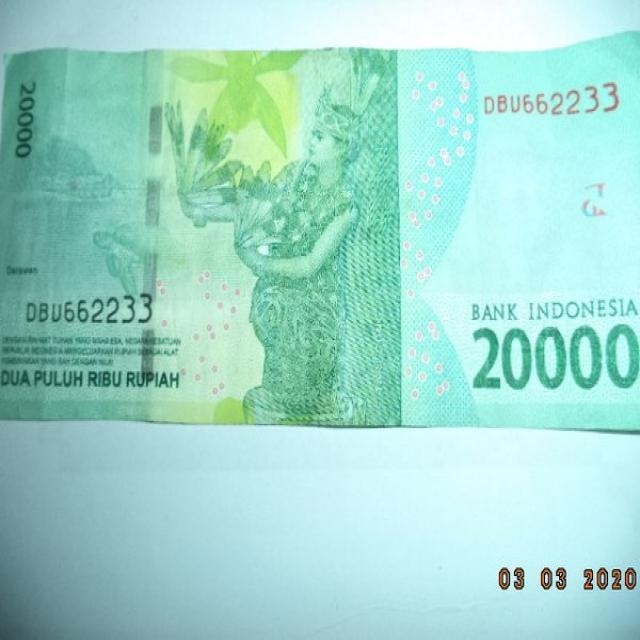dua puluh ribu rupiah: (6, 32, 640, 430), (203, 76, 374, 399), (459, 303, 640, 411)
